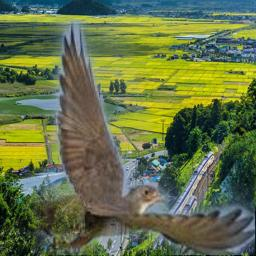Cuckoo: (9, 19, 255, 255)
